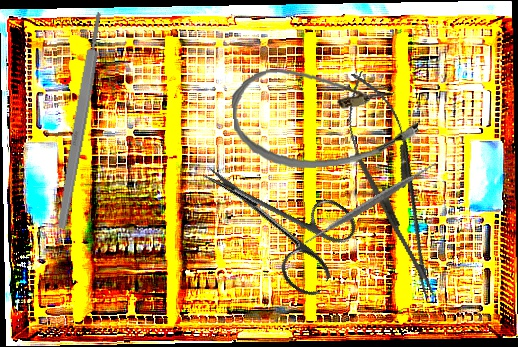Cannula: (229, 56, 421, 175)
Iris Scissors: (179, 133, 366, 302)
Needle Holder: (330, 64, 455, 305)
Scalpel Handle: (55, 11, 106, 230)
Spatula Surgical: (295, 128, 445, 278)
